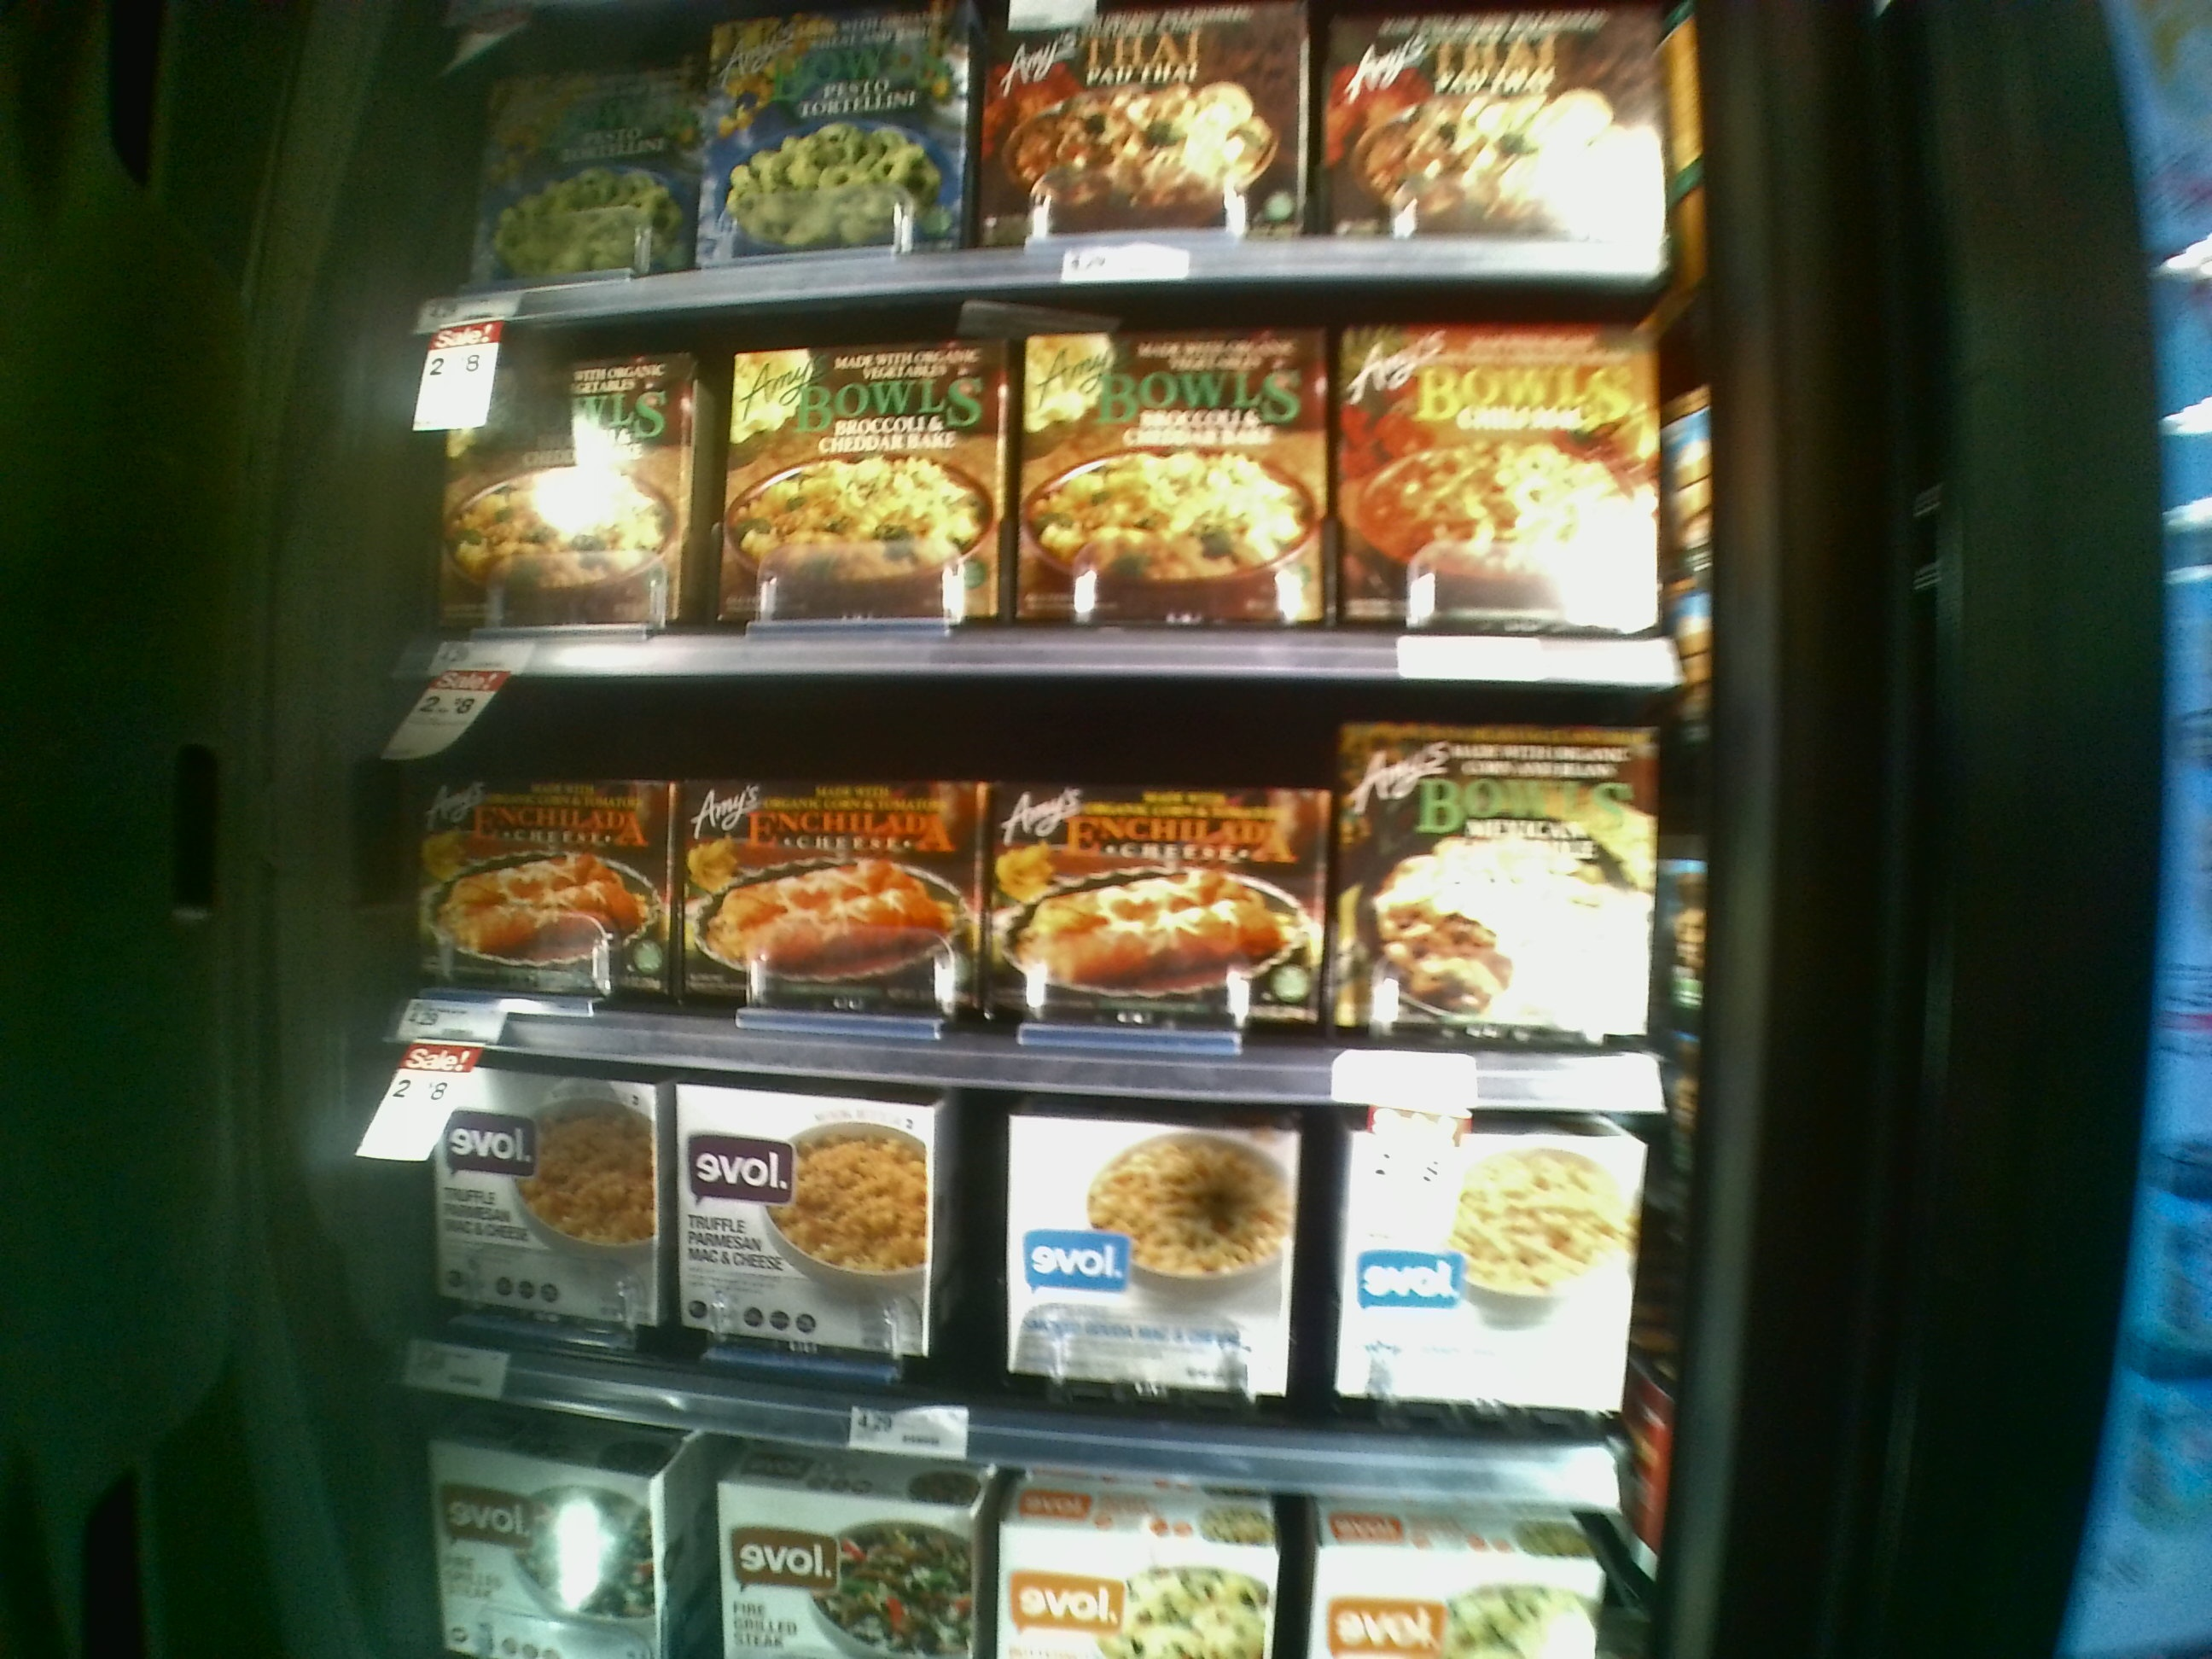shelf: (409, 1070, 1651, 1500), (430, 690, 1676, 1114), (446, 328, 1679, 695)
